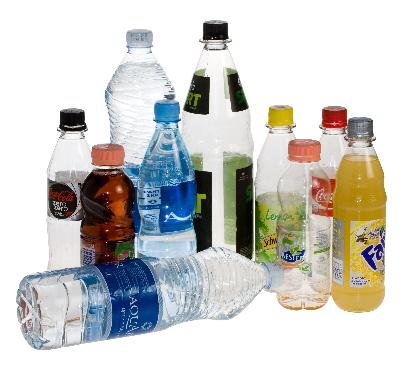Plastic Bottle: (14, 240, 286, 352), (172, 18, 258, 278), (104, 26, 180, 250), (135, 98, 201, 280), (270, 134, 336, 311), (45, 104, 103, 296), (333, 114, 387, 316), (79, 138, 139, 286)
